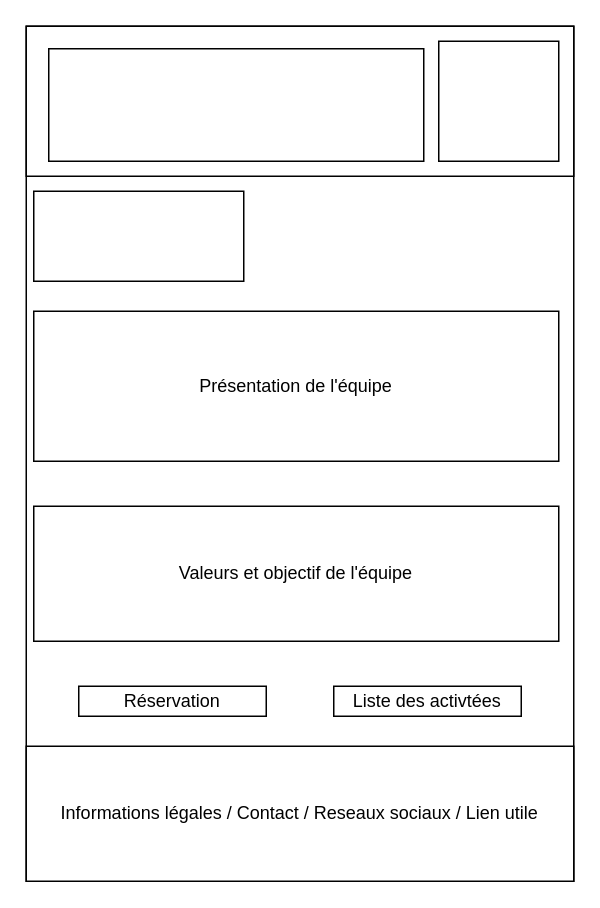
The diagram is 600 pixels wide and 908 high, and some of its shapes have lost their labels. Each missing label, with the centre of its shape:
A propos: (x=138, y=235)
LOGO: (x=235, y=104)
menu burger: (x=498, y=100)
